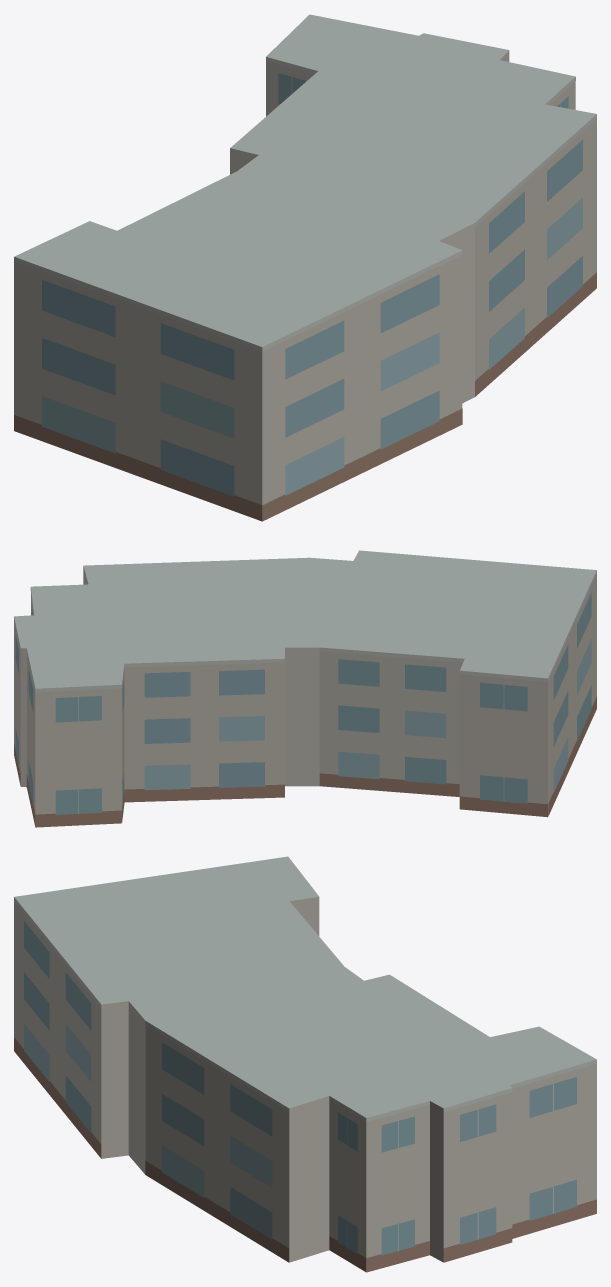
Rendered from survey-upis-32683082.glb.
3 views of the same model, one above another, from view 1: azimuth 30°, elevation 25°; view 2: azimuth 150°, elevation 25°; view 3: azimuth 270°, elevation 25° (orthographic). The views are drawn at different scales.
Parts seen in each view (by area): view 1: survey-upis-32683082.tmp; view 2: survey-upis-32683082.tmp; view 3: survey-upis-32683082.tmp.
Boxes of the visible parts, bbox=[...] form: survey-upis-32683082.tmp: bbox=[14, 14, 596, 521]; survey-upis-32683082.tmp: bbox=[14, 550, 596, 827]; survey-upis-32683082.tmp: bbox=[14, 856, 596, 1272].
Size of the model in its own units: 33.29 by 9.15 by 31.33.
